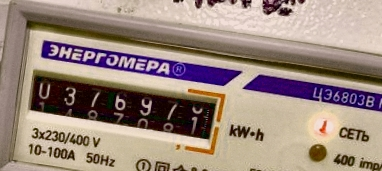0: (34, 77, 53, 100)
1: (187, 114, 200, 136)
3: (60, 83, 78, 108)
6: (112, 89, 128, 111)
7: (86, 84, 103, 110), (162, 97, 179, 122)
9: (137, 93, 153, 117)
screen: (18, 62, 228, 159)
